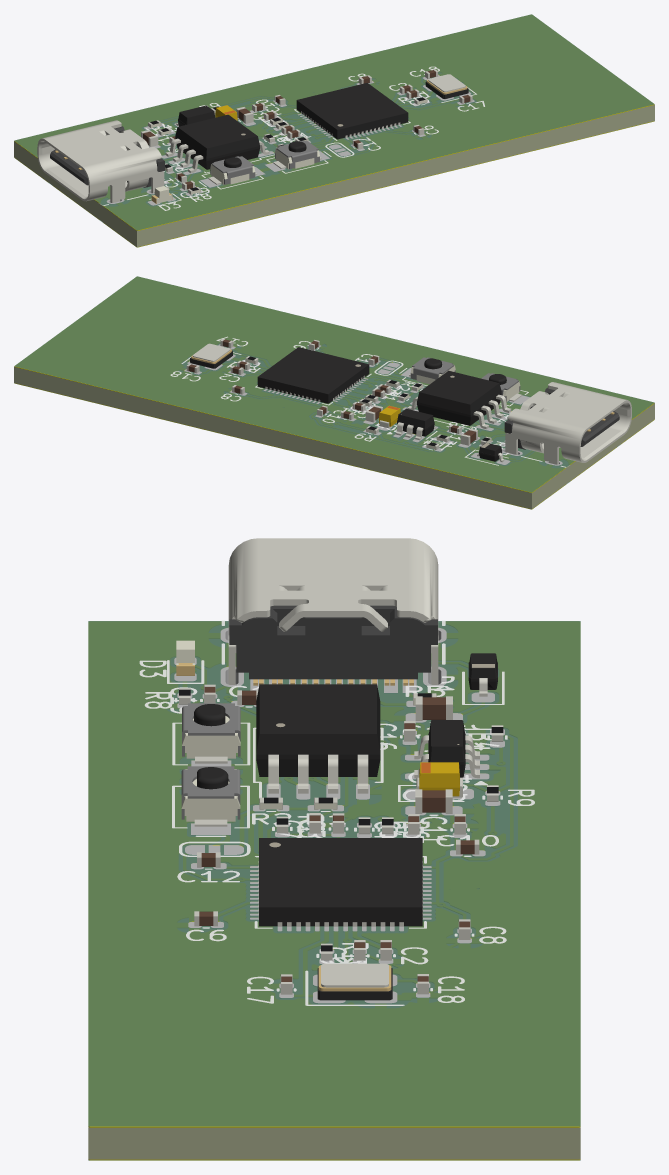
The model's file is pico-blocks.glb.
3 views of the same model, one above another, from view 1: azimuth 30°, elevation 25°; view 2: azimuth 150°, elevation 25°; view 3: azimuth 270°, elevation 25° (orthographic). The views are drawn at different scales.
Parts seen in each view (by area): view 1: Board, RP2040 core, USB-C power, 3.3 V regulator, LED; view 2: Board, RP2040 core, USB-C power, 3.3 V regulator; view 3: Board, RP2040 core, USB-C power, 3.3 V regulator, LED.
Boxes of the visible parts, left/top/right/bottom form: Board: left=14, top=14, right=654, bottom=247; RP2040 core: left=148, top=69, right=472, bottom=189; USB-C power: left=37, top=120, right=172, bottom=202; 3.3 V regulator: left=141, top=105, right=253, bottom=146; LED: left=151, top=186, right=200, bottom=203; Board: left=14, top=276, right=654, bottom=509; RP2040 core: left=186, top=338, right=522, bottom=449; USB-C power: left=477, top=382, right=631, bottom=464; 3.3 V regulator: left=365, top=405, right=477, bottom=445; Board: left=88, top=620, right=580, bottom=1160; RP2040 core: left=181, top=684, right=503, bottom=1000; USB-C power: left=228, top=538, right=497, bottom=705; 3.3 V regulator: left=404, top=696, right=479, bottom=813; LED: left=176, top=640, right=194, bottom=704.
Bounding box in the file's own units: 0.0522 × 0.00495 × 0.021.
